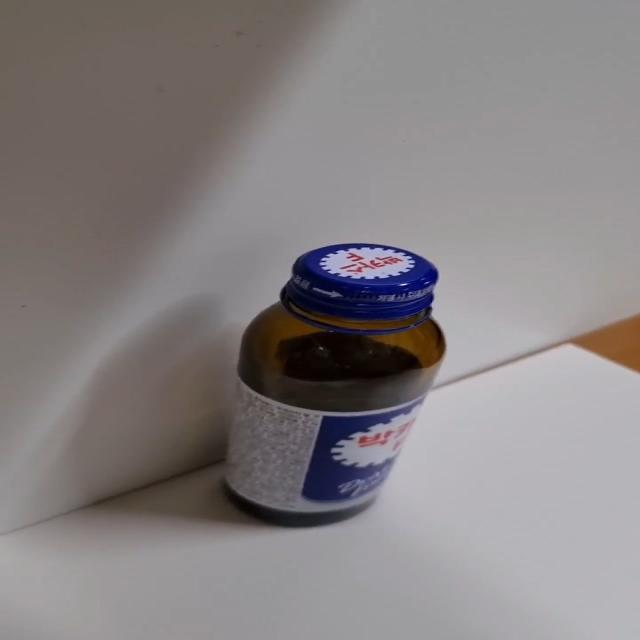Glass: (221, 244, 448, 530)
